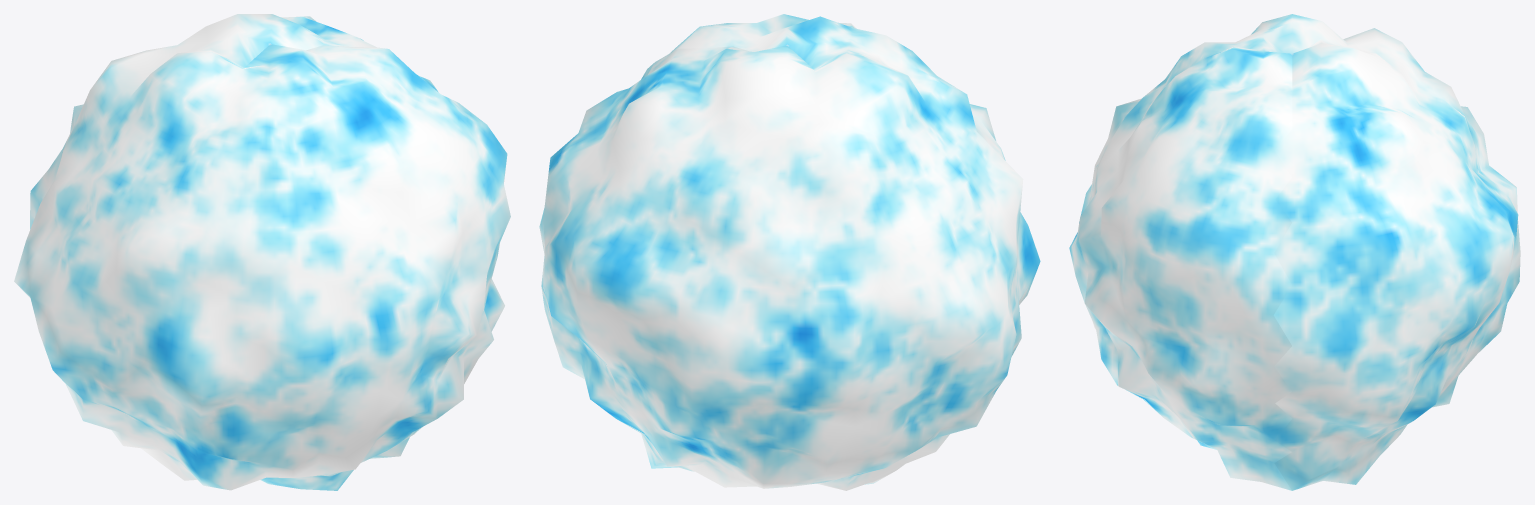
The model's file is fireball_frost.glb.
3 renders of one model, left to right at view 1: azimuth 30°, elevation 25°; view 2: azimuth 150°, elevation 25°; view 3: azimuth 270°, elevation 25°, orthographic. The views are drawn at different scales.
Parts seen in each view (by area): view 1: fireball; view 2: fireball; view 3: fireball.
Part boxes in pixels (x1,y1,x2,y2): fireball: (14, 14, 510, 490); fireball: (539, 14, 1040, 490); fireball: (1069, 14, 1520, 490).
Bounding box in the file's own units: 2.29 × 2.14 × 2.2.
Materials: 1 (1 with a texture image).
